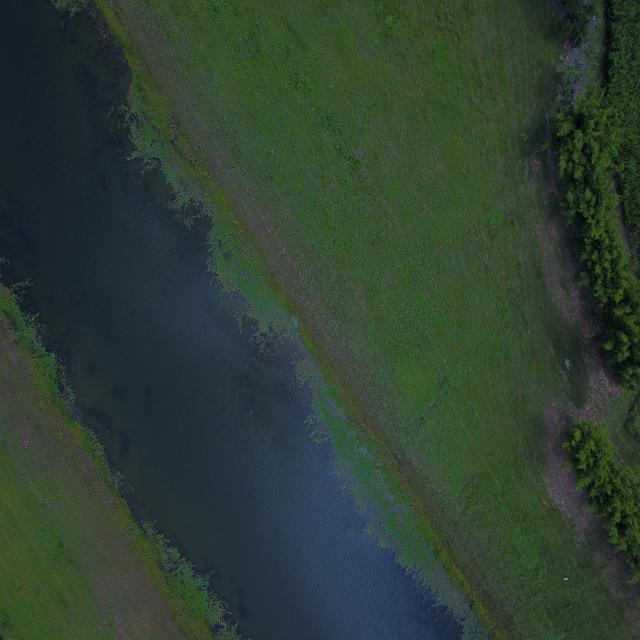fire: (0, 1, 460, 639)
